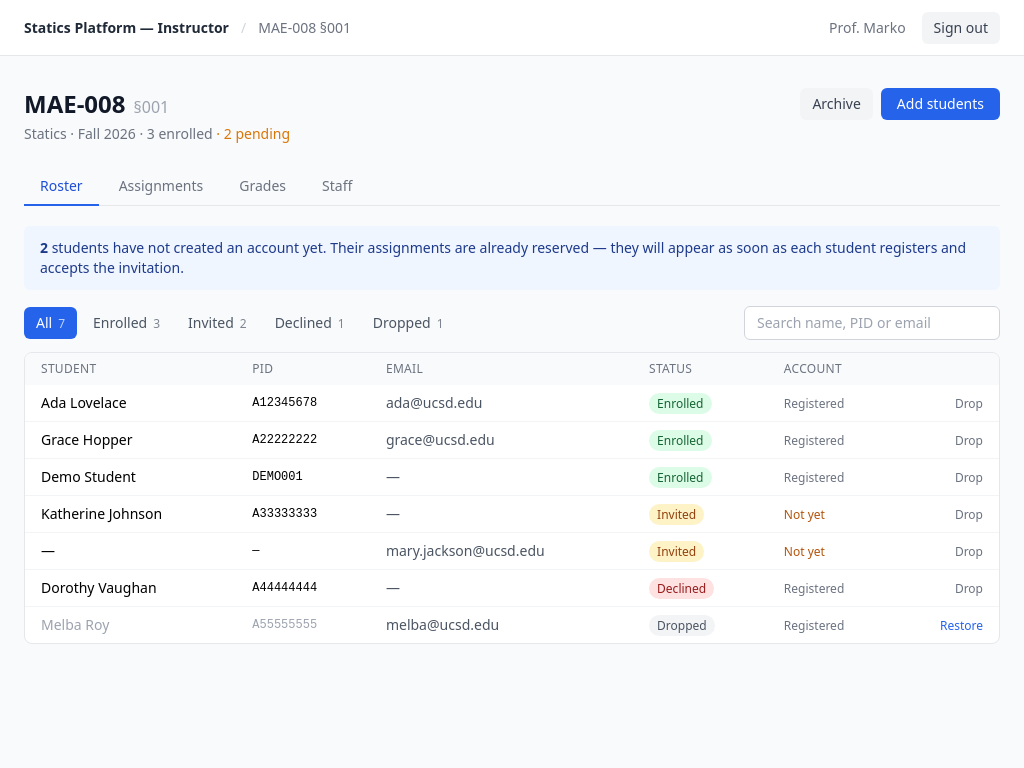
Test case: instructor grades tab › searches by name or student id
Click the tab "Grades" at (263,187), box x1=223 y1=168 x2=302 y2=206
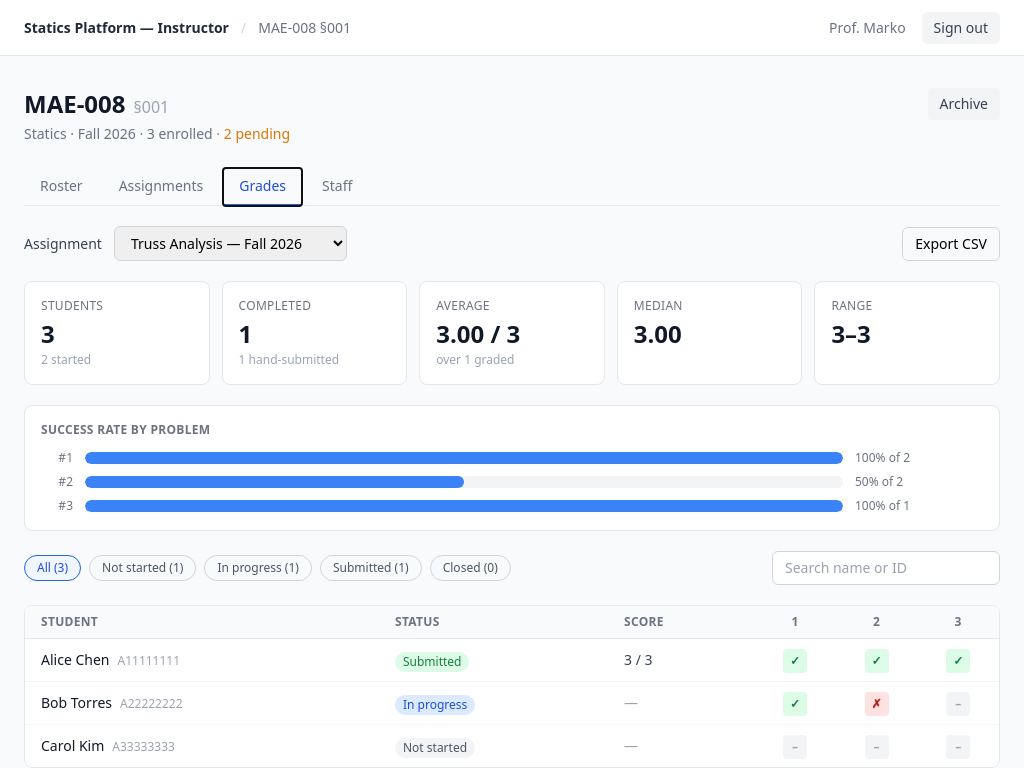
Now the text "Alice Chen" is shown, box x1=41 y1=650 x2=110 y2=669
Type "A22222222" into the search field named "Search students" at (886,568), box x1=772 y1=551 x2=1000 y2=585
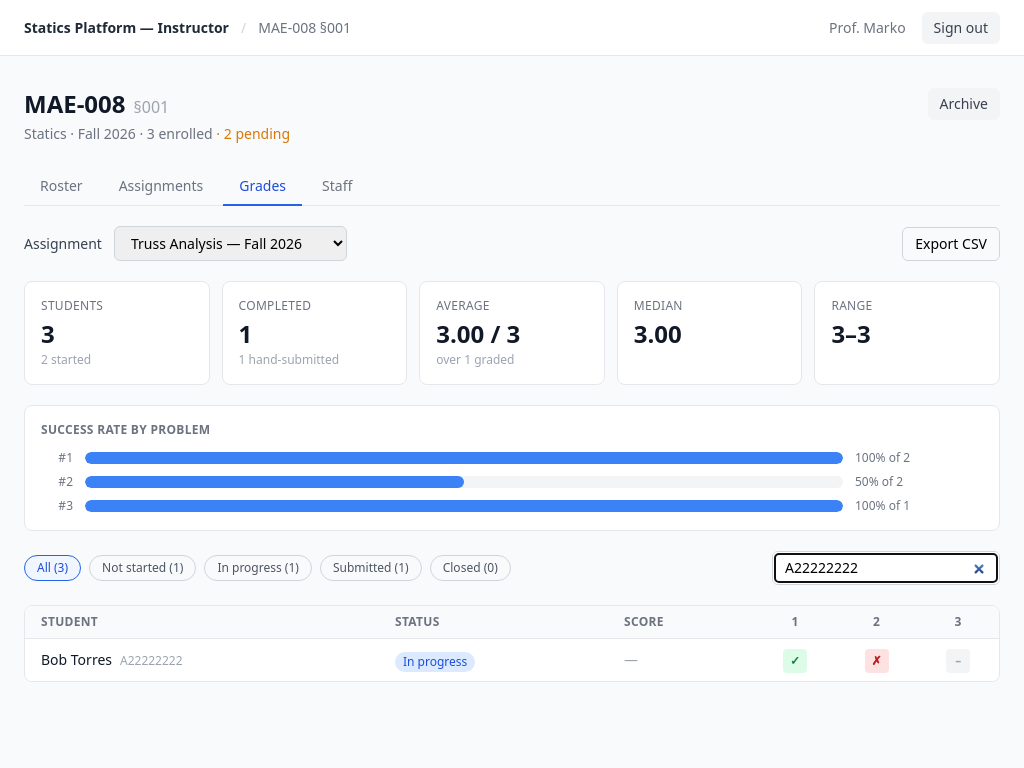
Now the text "Bob Torres" is shown, box x1=41 y1=650 x2=112 y2=669
Now the text "Alice Chen" is gone
